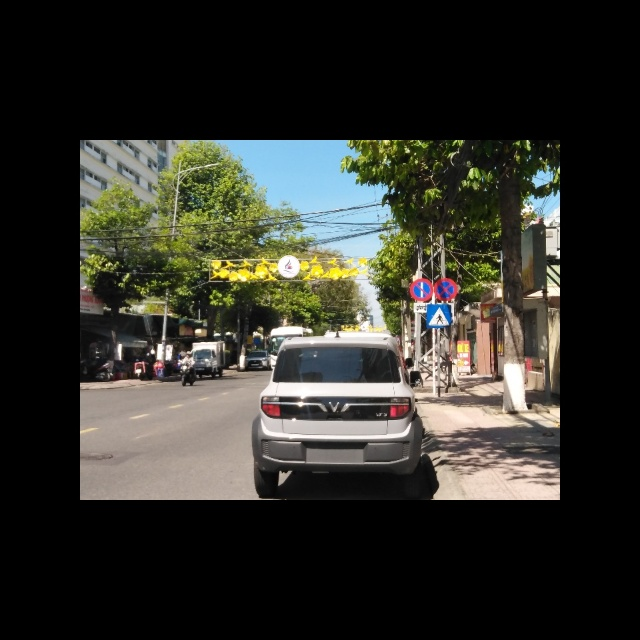Cấm dừng xe và đỗ xe: (434, 277, 458, 302)
Cấm đỗ xe ngày lẻ: (410, 278, 434, 302)
Đường dành cho người đi bộ: (426, 304, 451, 329)
